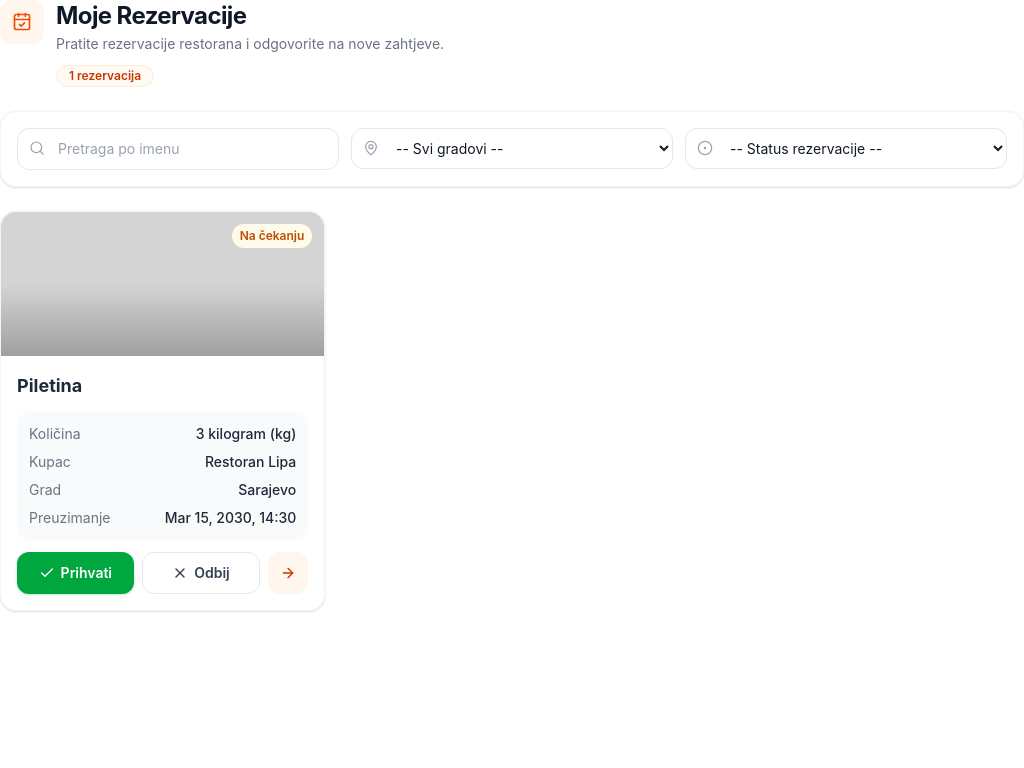
accepting a reservation on ReservationsPage › asks first and names the product, quantity, restaurant and pickup time
The width and height of the screenshot is (1024, 768).
Step 1. Click the button "Prihvati" → (75, 573), box [17,552,134,594]
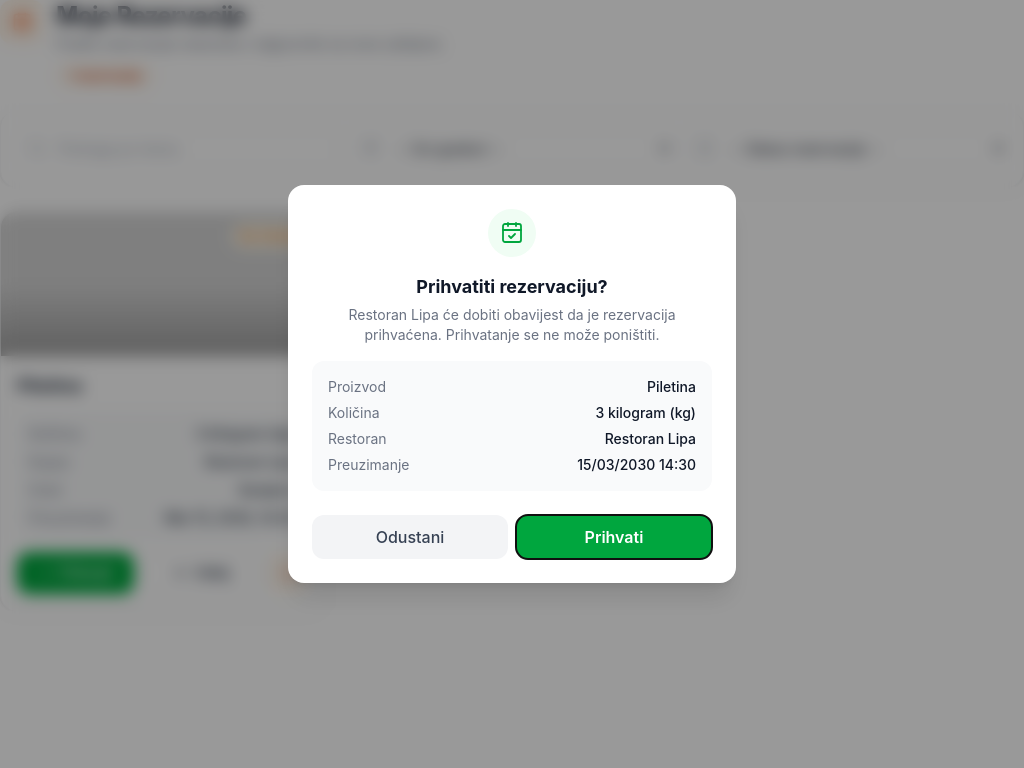
Check: the dialog "Prihvatiti rezervaciju?" shows "Piletina", box [647,378,696,395]
Check: the dialog "Prihvatiti rezervaciju?" shows "Restoran Lipa", box [605,430,696,447]
